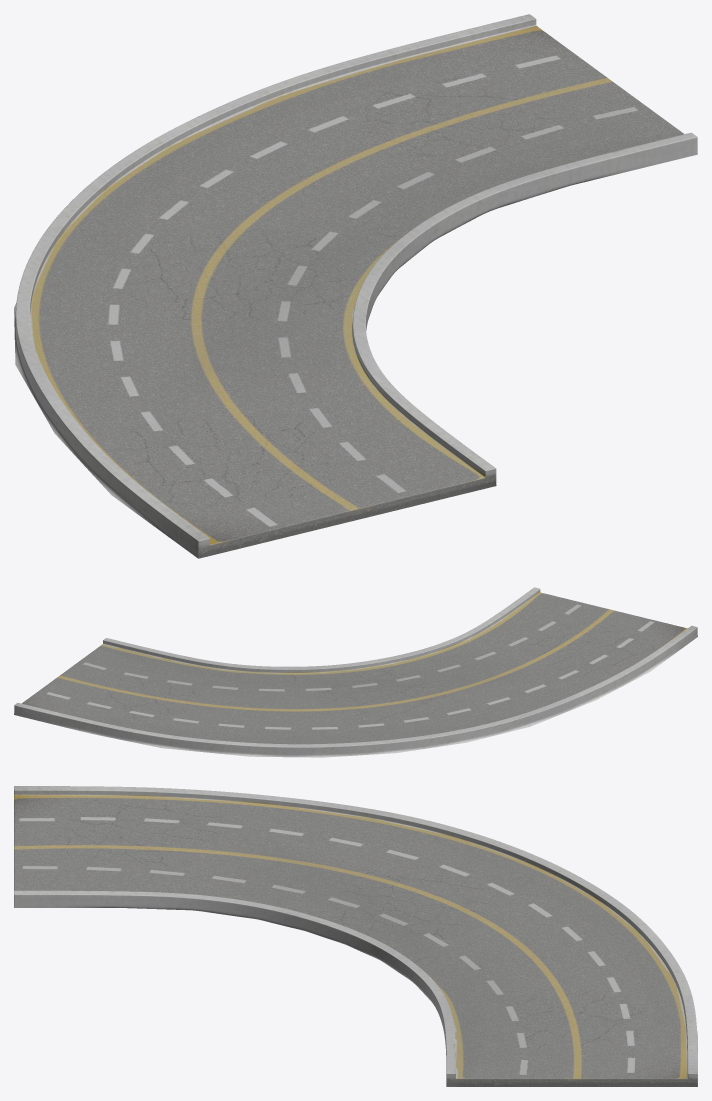
Rendered from road3.glb.
3 renders of one model, top to bottom at view 1: azimuth 30°, elevation 25°; view 2: azimuth 150°, elevation 25°; view 3: azimuth 270°, elevation 25°, orthographic. The views are drawn at different scales.
Visible parts, largest first — view 1: 10561_RoadSection90_v1-L3; view 2: 10561_RoadSection90_v1-L3; view 3: 10561_RoadSection90_v1-L3.
Part boxes in pixels (<box>): 10561_RoadSection90_v1-L3: <box>14,14,697,558</box>; 10561_RoadSection90_v1-L3: <box>14,587,697,757</box>; 10561_RoadSection90_v1-L3: <box>14,786,697,1086</box>.
Bounding box in the file's own units: 18.88 × 0.4059 × 18.97.
Materials: 1 (1 with a texture image).
